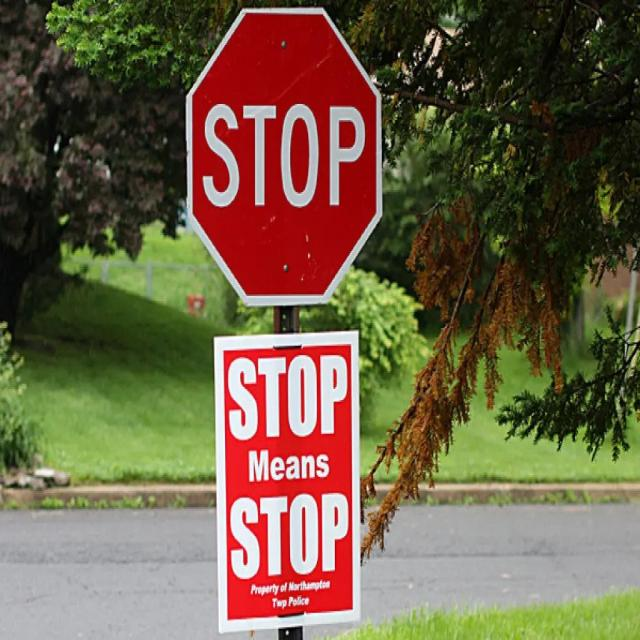stop: (186, 8, 383, 313)
